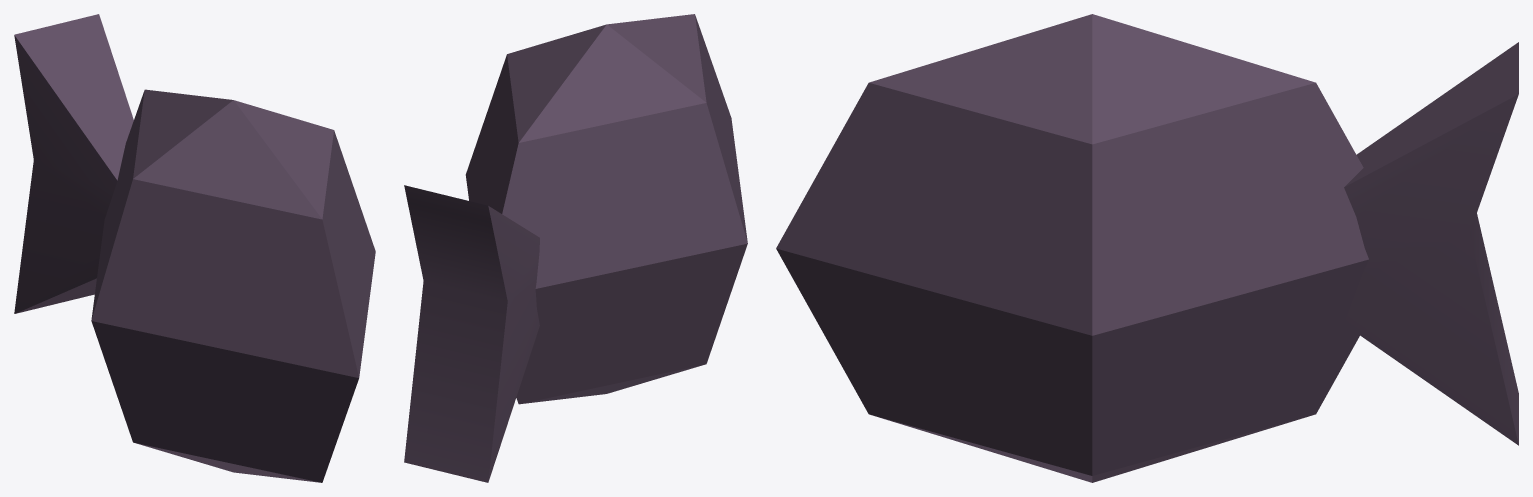
Rendered from Fish.fbx.
3 views of the same model, side by side, from view 1: azimuth 30°, elevation 25°; view 2: azimuth 150°, elevation 25°; view 3: azimuth 270°, elevation 25° (orthographic). The views are drawn at different scales.
Parts seen in each view (by area): view 1: Fish; view 2: Fish; view 3: Fish.
Boxes of the visible parts, x1,y1,x2,y2 form: Fish: (14,14,375,482); Fish: (404,14,747,482); Fish: (776,14,1518,482).
Size of the model in its own units: 0.4349 by 0.5443 by 0.7814.
